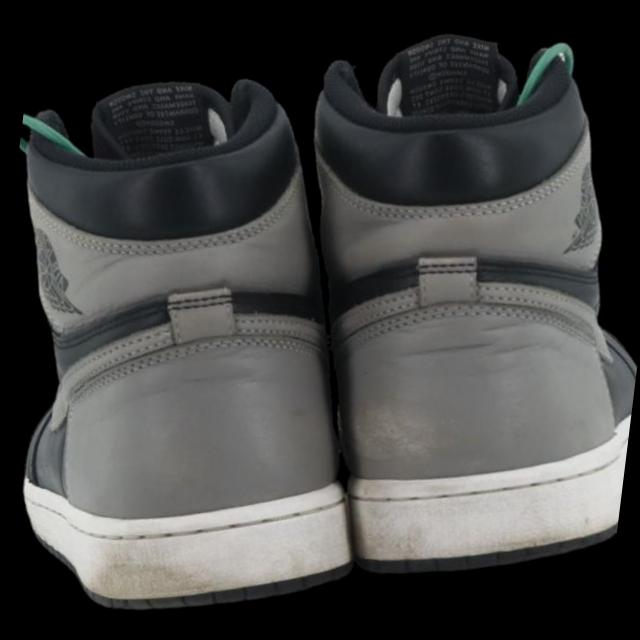nike_original_jordan: (0, 26, 425, 640), (222, 0, 640, 618)
